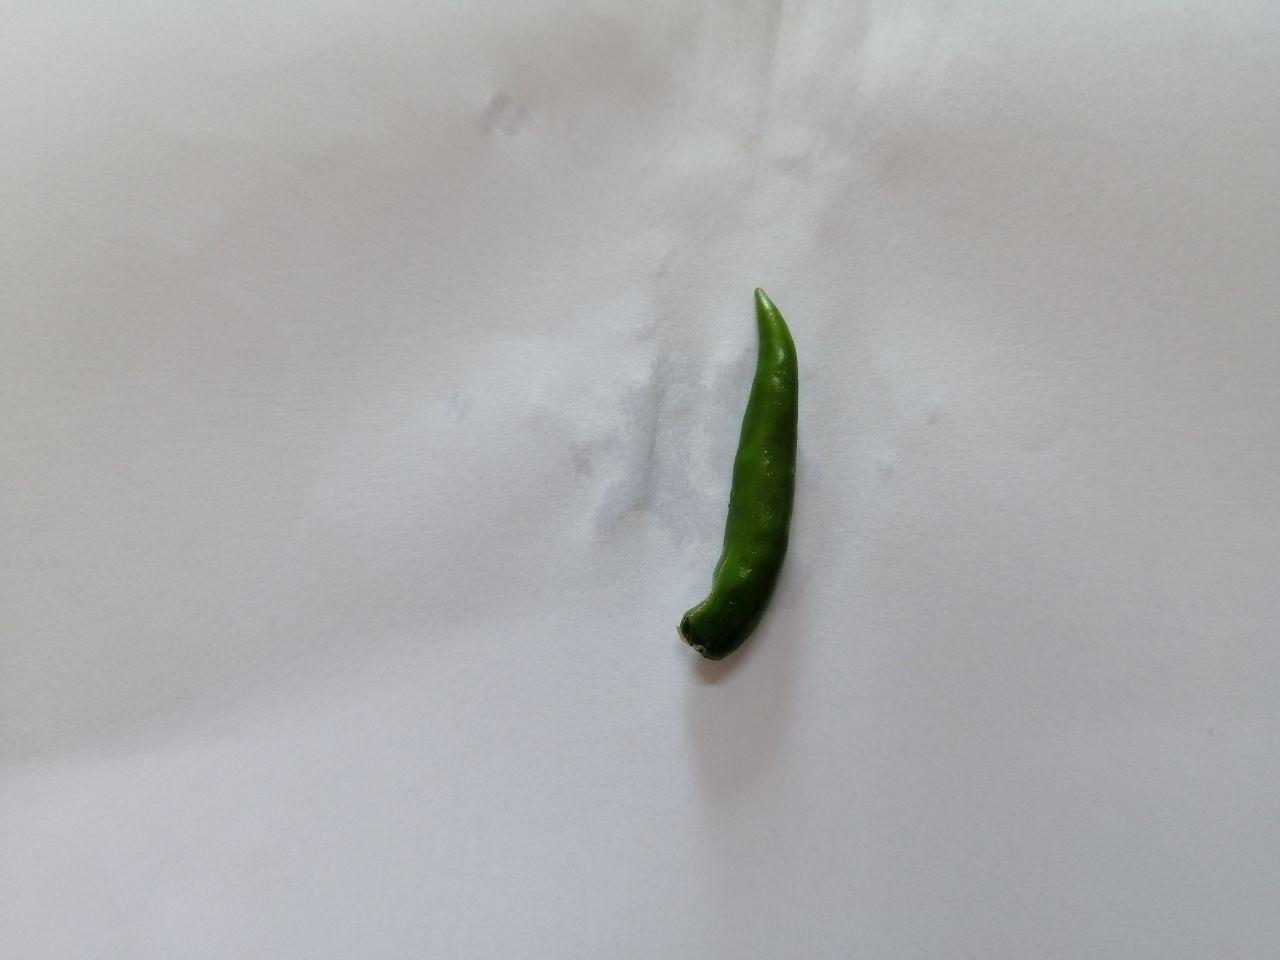lada hijau: (668, 277, 822, 659)
